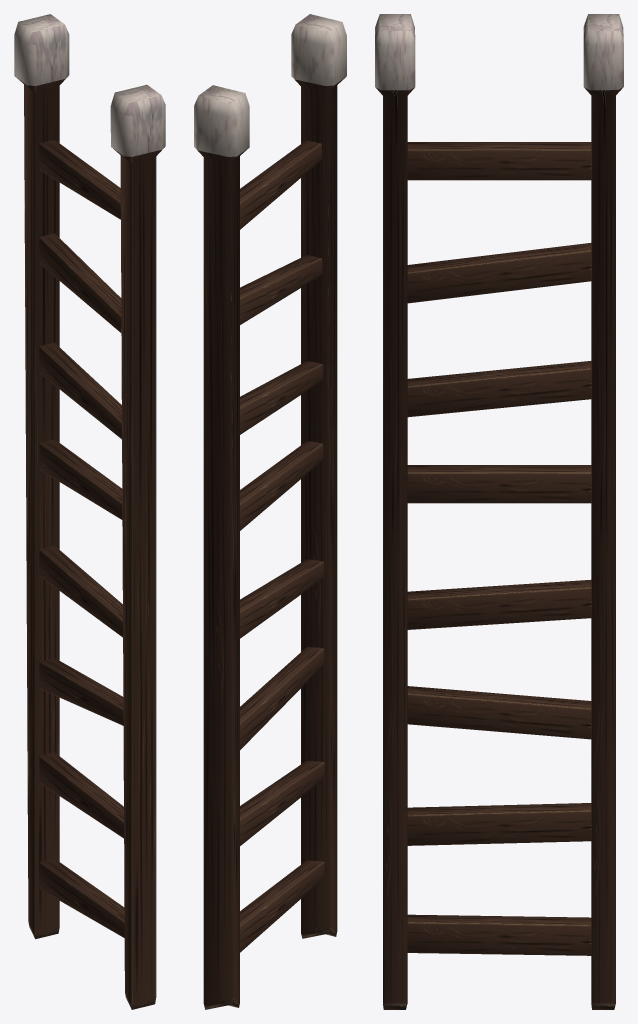
The model's file is Stair_V2.fbx.
The picture shows the model from 3 angles, left to right: view 1: azimuth 30°, elevation 25°; view 2: azimuth 150°, elevation 25°; view 3: azimuth 270°, elevation 25°; orthographic projection. The views are drawn at different scales.
Parts seen in each view (by area): view 1: Stair_V1; view 2: Stair_V1; view 3: Stair_V1.
Part boxes in pixels (left/top/right/bottom): Stair_V1: left=14, top=14, right=165, bottom=1009; Stair_V1: left=194, top=14, right=346, bottom=1009; Stair_V1: left=375, top=14, right=623, bottom=1009.
Size of the model in its own units: 13.33 by 275 by 63.21.
